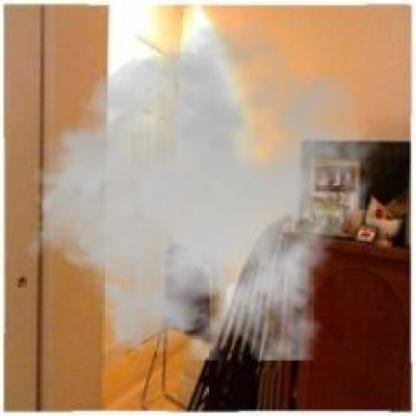Smoke: (24, 19, 383, 361)
